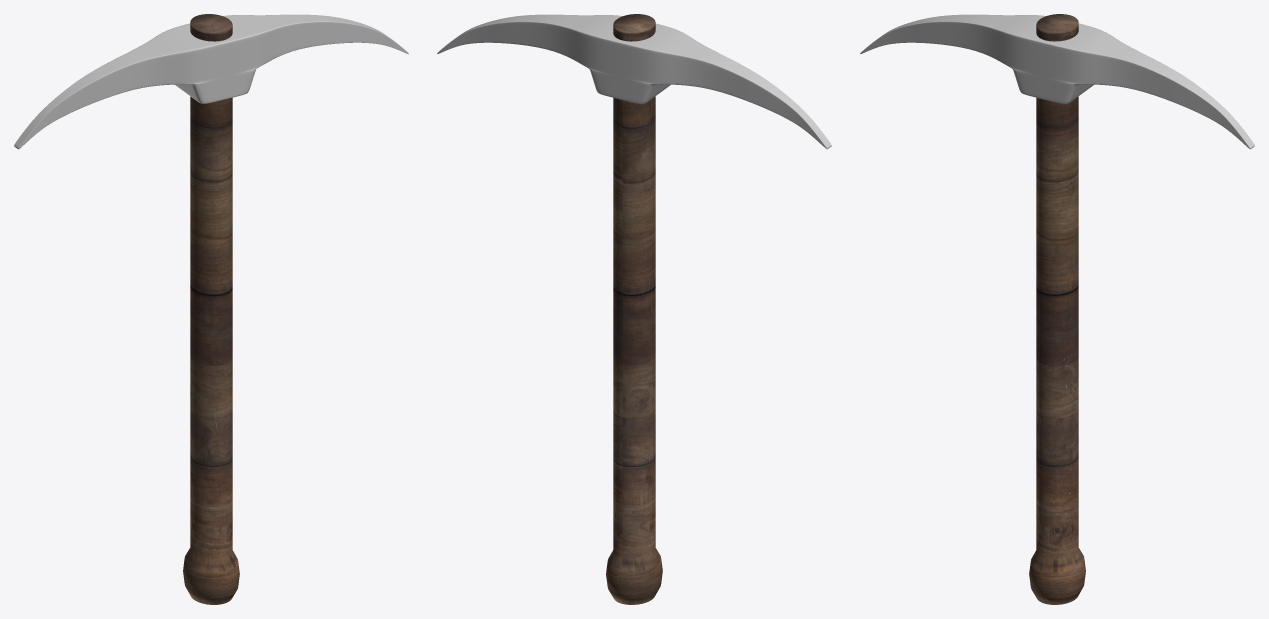
Rendered from Pick.fbx.
3 views of the same model, side by side, from view 1: azimuth 30°, elevation 25°; view 2: azimuth 150°, elevation 25°; view 3: azimuth 330°, elevation 25° (orthographic).
Visible parts, largest first — view 1: Cylinder; view 2: Cylinder; view 3: Cylinder.
Part boxes in pixels (x1=…): Cylinder: x1=14, y1=14, x2=408, y2=604; Cylinder: x1=437, y1=14, x2=831, y2=604; Cylinder: x1=860, y1=14, x2=1254, y2=604.
Size of the model in its own units: 100 by 140 by 14.
